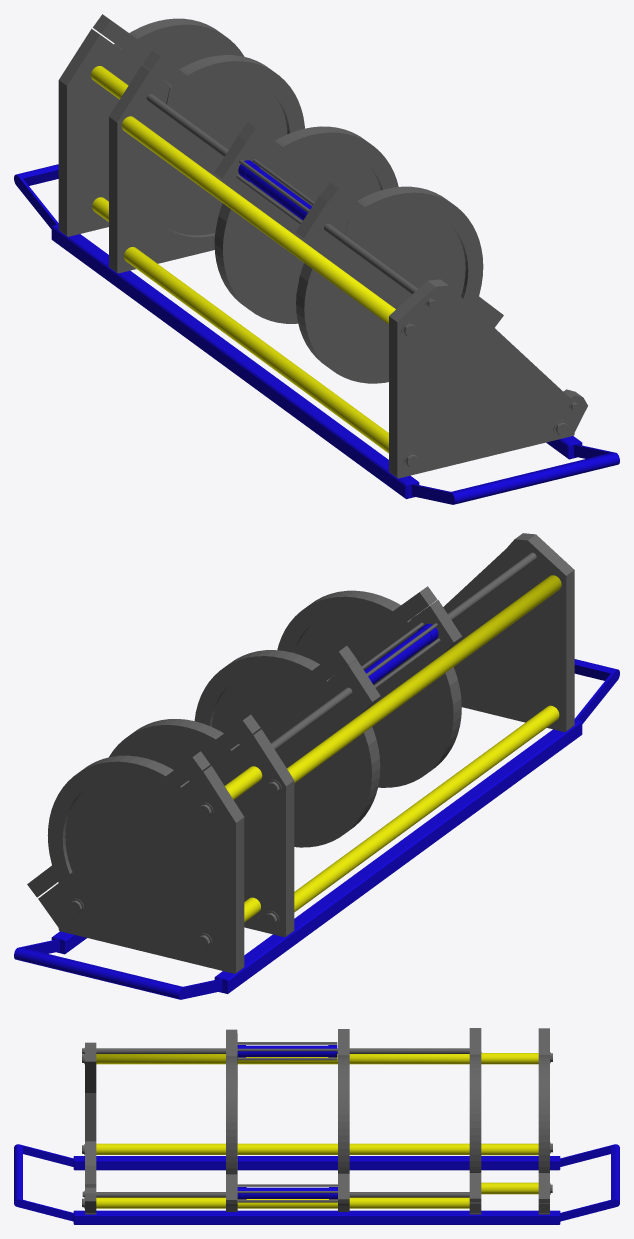
The picture shows the model from 3 angles, top to bottom: view 1: azimuth 30°, elevation 25°; view 2: azimuth 150°, elevation 25°; view 3: azimuth 270°, elevation 25°; orthographic projection. The views are drawn at different scales.
Visible parts, largest first — view 1: Main, Stand_1, Cover_2, Stand_2, Cover_3, Cover_1, Cover_4, Connect_1; view 2: Main, Stand_2, Cover_4, Stand_1, Cover_1, Cover_2, Cover_3, Connect_1; view 3: Main, Cover_3, Cover_2, Cover_4, Cover_1, Connect_2, Connect_1.
Boxes of the visible parts, bbox=[...] form: Main: bbox=[14, 28, 619, 504]; Stand_1: bbox=[296, 195, 427, 383]; Cover_2: bbox=[320, 182, 503, 327]; Stand_2: bbox=[214, 136, 317, 323]; Cover_3: bbox=[143, 50, 304, 149]; Cover_1: bbox=[238, 122, 398, 211]; Cover_4: bbox=[93, 14, 244, 80]; Connect_1: bbox=[236, 159, 314, 224]; Main: bbox=[14, 533, 619, 999]; Stand_2: bbox=[270, 659, 380, 847]; Cover_4: bbox=[27, 751, 210, 897]; Stand_1: bbox=[364, 600, 461, 787]; Cover_1: bbox=[194, 646, 356, 744]; Cover_2: bbox=[277, 586, 437, 669]; Cover_3: bbox=[109, 714, 260, 781]; Connect_1: bbox=[361, 622, 440, 688]; Main: bbox=[14, 1042, 619, 1224]; Cover_3: bbox=[469, 1028, 481, 1202]; Cover_2: bbox=[226, 1029, 237, 1204]; Cover_4: bbox=[538, 1028, 549, 1202]; Cover_1: bbox=[338, 1029, 349, 1203]; Connect_2: bbox=[237, 1184, 337, 1202]; Connect_1: bbox=[237, 1042, 337, 1060].
Size of the model in its own units: 0.5335 by 0.5395 by 1.95.
